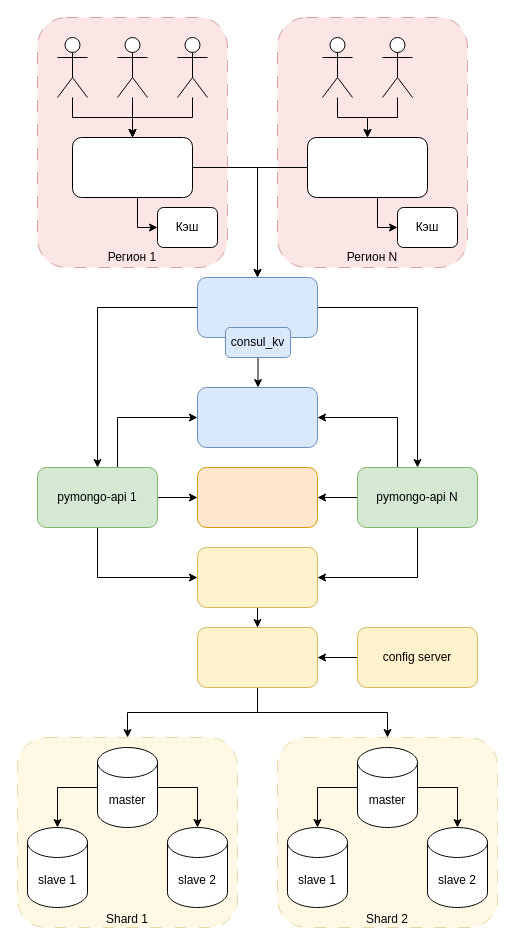
Some shapes in this 515 by 945 pixel diagram are drawn without their labels. Here are the shapes that lost their labels. From the top down, the centre of each, then its label:
At point 132,167: "CDN 1".
At point 367,167: "CDN N".
At point 257,307: "APISIX Gateway".
At point 257,417: "Consul".
At point 257,497: "redis".
At point 257,577: "driver".
At point 257,657: "mongos".
